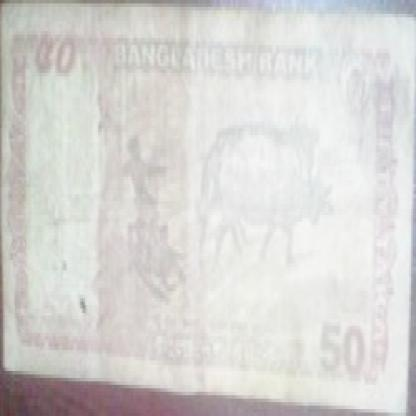Fifty taka: (312, 312, 380, 381), (31, 28, 86, 86)
